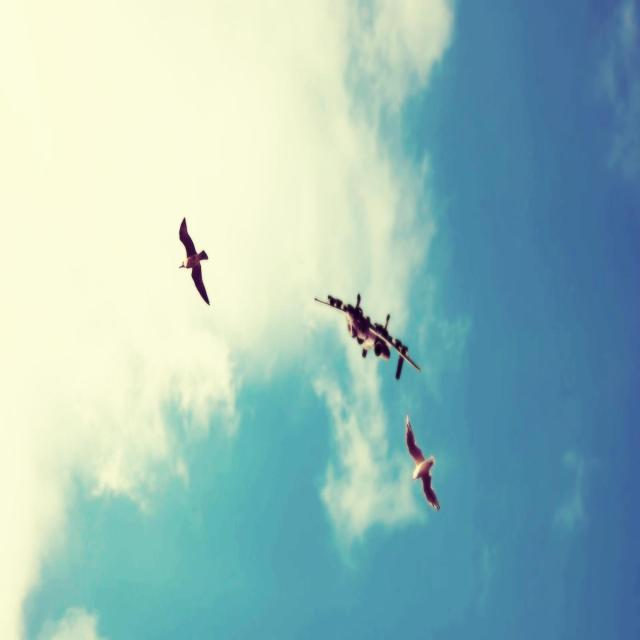airplane: (314, 291, 421, 380)
